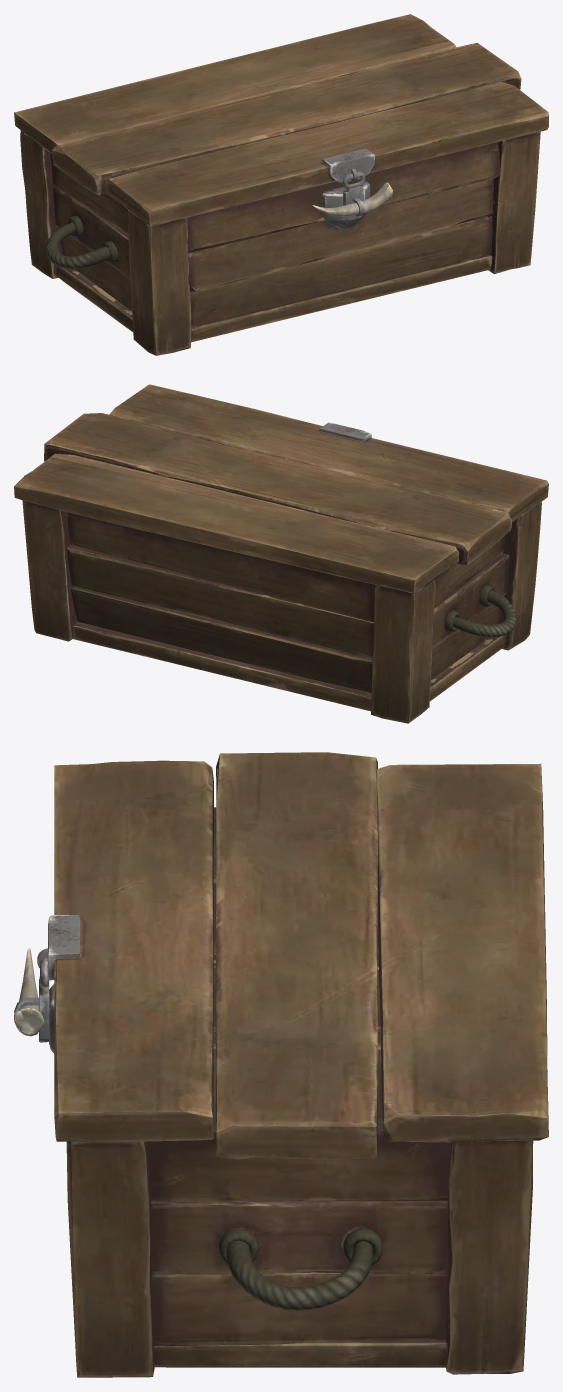
3 views of the same model, one above another, from view 1: azimuth 30°, elevation 25°; view 2: azimuth 150°, elevation 25°; view 3: azimuth 270°, elevation 25° (orthographic). The views are drawn at different scales.
Parts seen in each view (by area): view 1: SM_Dec_Garou_Chest_01_LOD0; view 2: SM_Dec_Garou_Chest_01_LOD0; view 3: SM_Dec_Garou_Chest_01_LOD0.
Part boxes in pixels (x1=…): SM_Dec_Garou_Chest_01_LOD0: x1=14, y1=14, x2=548, y2=355; SM_Dec_Garou_Chest_01_LOD0: x1=14, y1=384, x2=548, y2=723; SM_Dec_Garou_Chest_01_LOD0: x1=14, y1=752, x2=548, y2=1377.
Size of the model in its own units: 1.22 by 0.3972 by 0.6838.
1 material, 1 textured.
